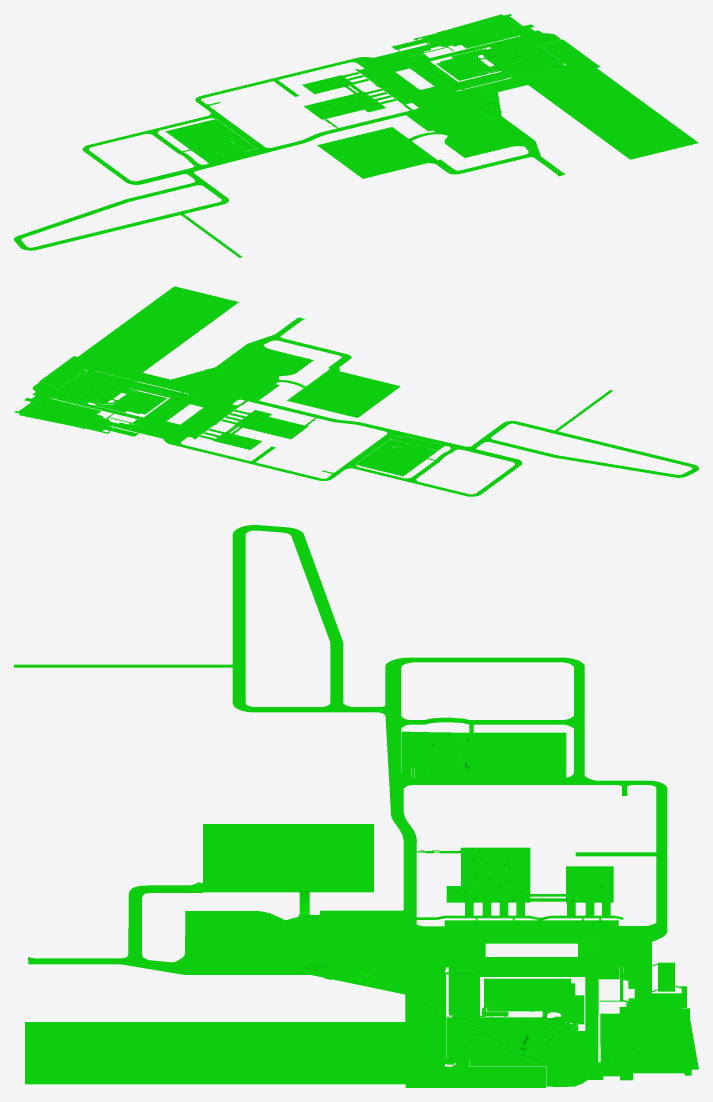
The model's file is Walkable.fbx.
The picture shows the model from 3 angles, top to bottom: view 1: azimuth 30°, elevation 25°; view 2: azimuth 150°, elevation 25°; view 3: azimuth 270°, elevation 25°; orthographic projection. The views are drawn at different scales.
Parts seen in each view (by area): view 1: polySurface415523, polySurface415496, polySurface415505, polySurface415492, polySurface415497, polySurface415491, polySurface415495, polySurface416334, polySurface415469, pPlane22, polySurface416376, polySurface415490 (+3 smaller); view 2: polySurface415523, polySurface415496, polySurface415505, polySurface415492, polySurface415497, polySurface415491, polySurface415495, polySurface415469, polySurface416334, pPlane22, polySurface416376, polySurface415490 (+3 smaller); view 3: polySurface415523, polySurface415496, polySurface415505, polySurface415492, polySurface415497, polySurface415491, polySurface415495, polySurface415469, pPlane22, polySurface416334, polySurface416376, polySurface415490 (+8 smaller).
Boxes of the visible parts, <box> form: polySurface415523: <box>528,68,698,159</box>; polySurface415496: <box>317,127,565,178</box>; polySurface415505: <box>406,92,534,157</box>; polySurface415492: <box>352,30,542,104</box>; polySurface415497: <box>412,39,599,110</box>; polySurface415491: <box>82,107,422,184</box>; polySurface415495: <box>14,171,242,257</box>; polySurface416334: <box>484,33,560,77</box>; polySurface415469: <box>165,119,246,153</box>; pPlane22: <box>304,85,412,119</box>; polySurface416376: <box>439,14,524,45</box>; polySurface415490: <box>195,59,356,152</box>; polySurface415523: <box>78,286,238,372</box>; polySurface415496: <box>248,317,400,417</box>; polySurface415505: <box>171,344,313,400</box>; polySurface415492: <box>32,392,236,445</box>; polySurface415497: <box>39,356,241,404</box>; polySurface415491: <box>238,397,521,496</box>; polySurface415495: <box>466,390,698,477</box>; polySurface415469: <box>355,443,435,476</box>; polySurface416334: <box>32,371,135,402</box>; pPlane22: <box>214,400,308,439</box>; polySurface416376: <box>19,399,96,428</box>; polySurface415490: <box>176,431,401,480</box>; polySurface415523: <box>25,1022,406,1084</box>; polySurface415496: <box>28,824,373,974</box>; polySurface415505: <box>185,910,405,994</box>; polySurface415492: <box>444,920,667,1079</box>; polySurface415497: <box>405,926,545,1087</box>; polySurface415491: <box>385,657,593,926</box>; polySurface415495: <box>14,525,385,714</box>; polySurface415469: <box>451,724,566,778</box>; pPlane22: <box>416,847,540,922</box>; polySurface416334: <box>446,1018,587,1086</box>; polySurface416376: <box>610,1010,698,1069</box>; polySurface415490: <box>401,773,667,925</box>.
Bounding box in the file's own units: 77624 × 543 × 39920.
